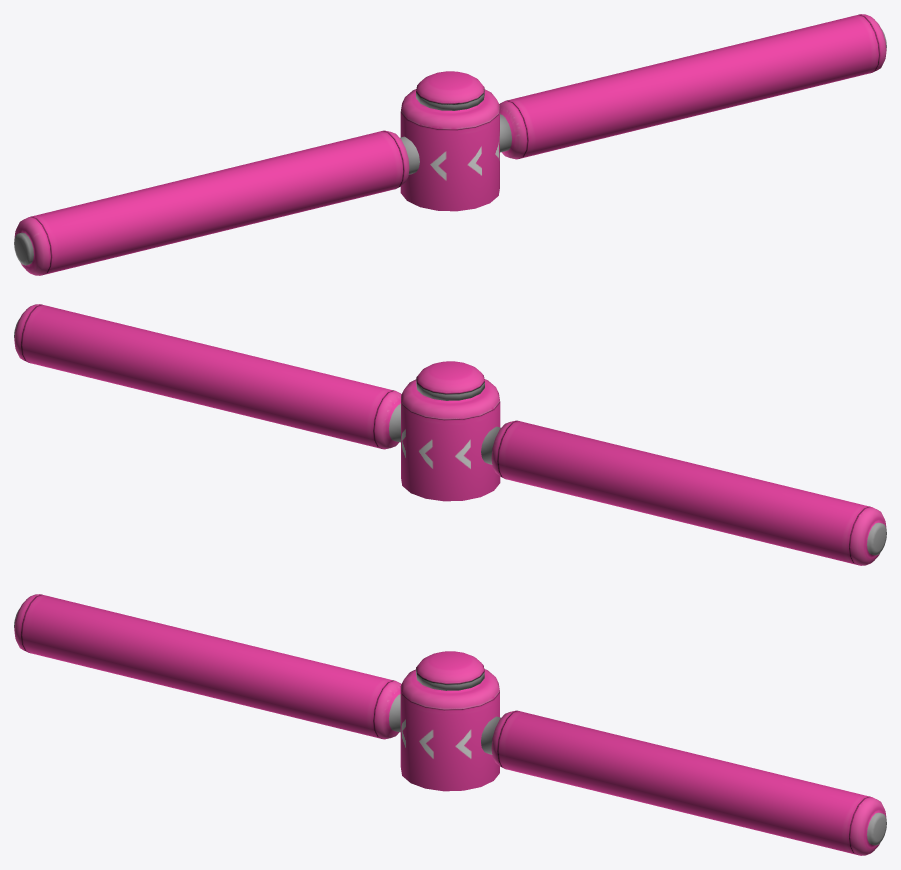
File: SpinningBaton_2_low.fbx
3 renders of one model, top to bottom at view 1: azimuth 30°, elevation 25°; view 2: azimuth 150°, elevation 25°; view 3: azimuth 330°, elevation 25°, orthographic.
Visible parts, largest first — view 1: SpinningBaton_2_low; view 2: SpinningBaton_2_low; view 3: SpinningBaton_2_low.
Part boxes in pixels (bbox=[...]): SpinningBaton_2_low: bbox=[14, 14, 886, 275]; SpinningBaton_2_low: bbox=[14, 304, 886, 565]; SpinningBaton_2_low: bbox=[14, 594, 886, 855].
Bounding box in the file's own units: 990 × 123 × 100.
